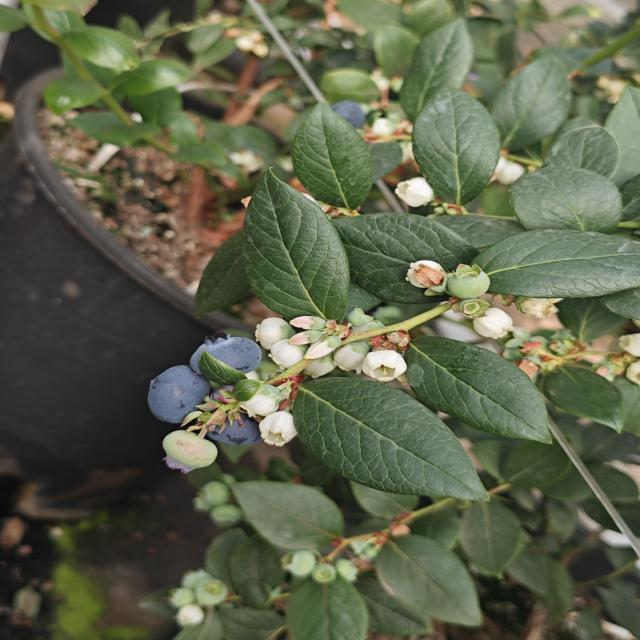ripe: (144, 363, 212, 426), (187, 334, 264, 380), (210, 419, 262, 446), (335, 98, 370, 124)
